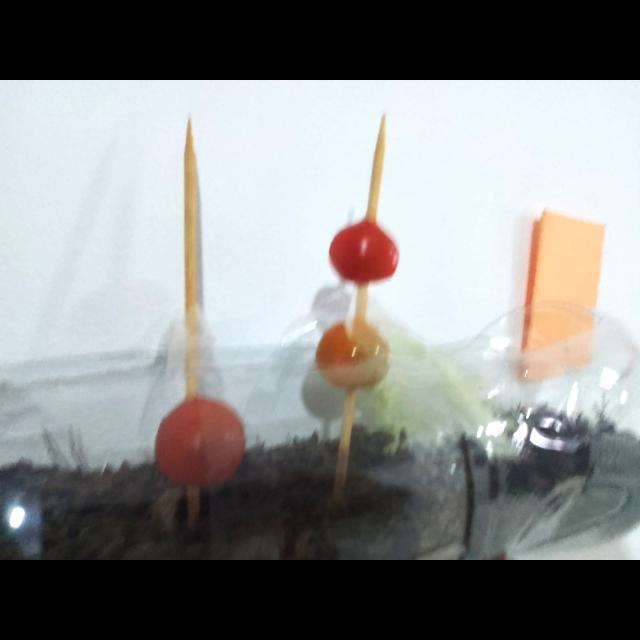card: (522, 211, 604, 379)
fruit_maturation: (155, 396, 245, 488), (316, 316, 388, 390)
fully_grown: (329, 220, 399, 284)
